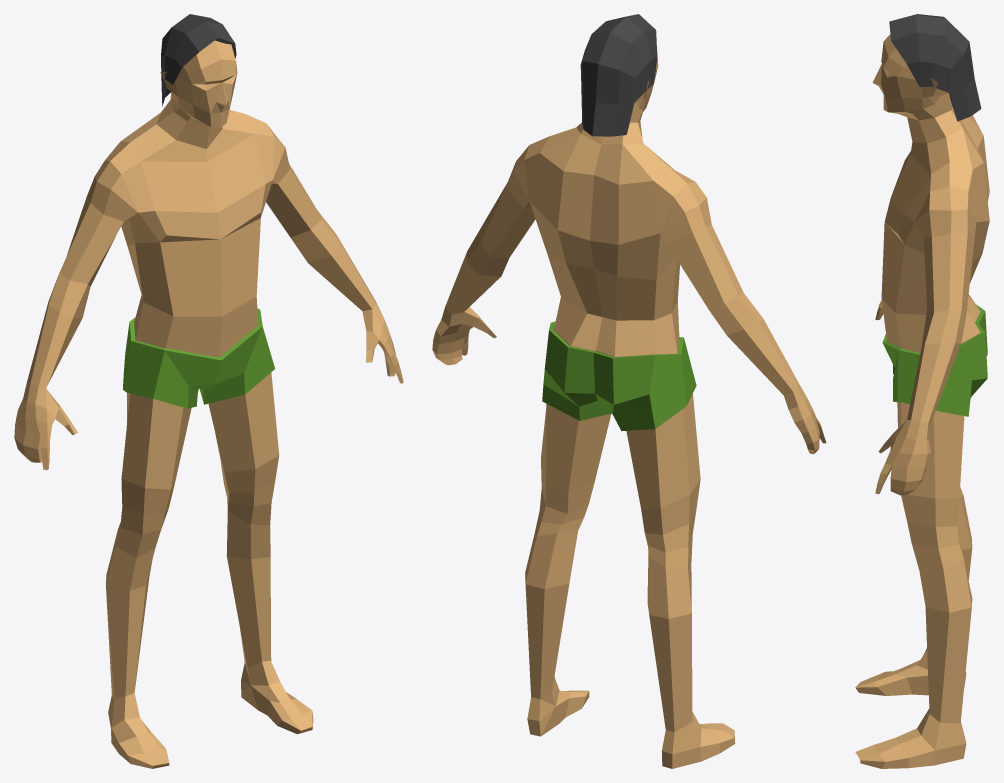
Rendered from HumainTOKill.fbx.
The picture shows the model from 3 angles, left to right: view 1: azimuth 30°, elevation 25°; view 2: azimuth 150°, elevation 25°; view 3: azimuth 270°, elevation 25°; orthographic projection.
Parts seen in each view (by area): view 1: male, male.001; view 2: male, male.001; view 3: male, male.001.
Boxes of the visible parts, <box> form: male: <box>14,40,403,768</box>; male.001: <box>161,14,236,106</box>; male: <box>432,50,826,768</box>; male.001: <box>580,14,657,136</box>; male: <box>855,34,989,768</box>; male.001: <box>889,14,981,121</box>.
Bounding box in the file's own units: 196 × 352 × 60.57.
